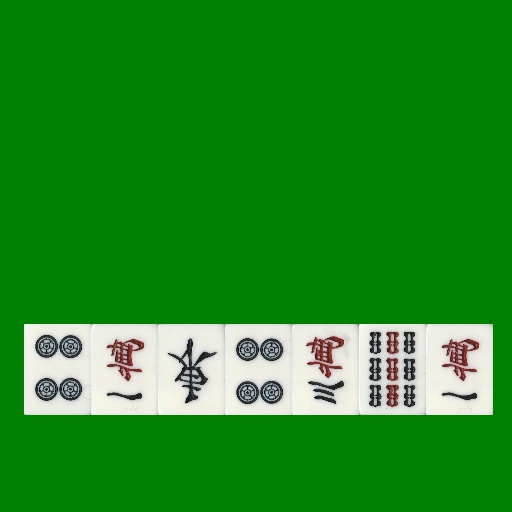1m: (91, 324, 158, 415), (426, 324, 493, 415)
3m: (292, 324, 359, 415)
4p: (24, 324, 91, 415), (225, 324, 292, 415)
9s: (359, 324, 426, 415)
east: (158, 324, 225, 415)
